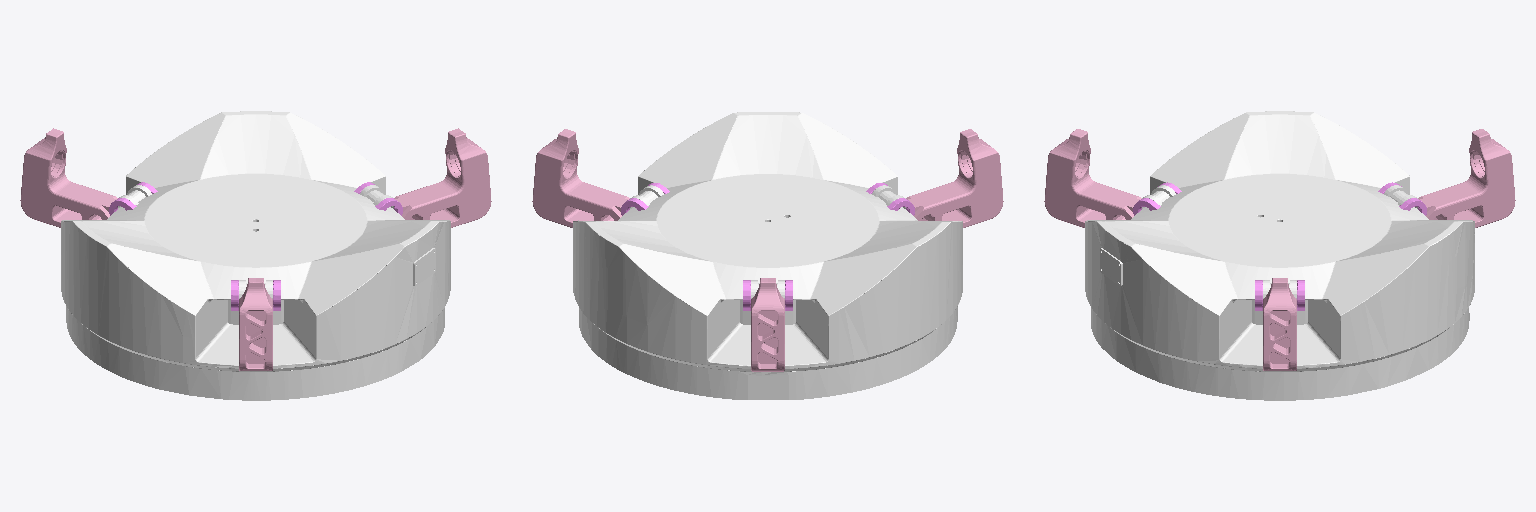
robot.urdf — interface:
<?xml version="1.0" encoding="utf-8"?>
<!-- This URDF was automatically created by SolidWorks to URDF Exporter! Originally created by Stephen Brawner (brawner@gmail.com) 
     Commit Version: 1.6.0-4-g7f85cfe  Build Version: 1.6.7995.38578
     For more information, please see http://wiki.ros.org/sw_urdf_exporter -->
<robot
  name="interface">
  <link
    name="base_link">
    <inertial>
      <origin
        xyz="0.00012080771538443 7.17794481618687E-05 -0.0367152848370495"
        rpy="0 0 0" />
      <mass
        value="1.6884153203787" />
      <inertia
        ixx="0.0219877639959177"
        ixy="2.27866641632109E-05"
        ixz="2.29639071508771E-06"
        iyy="0.0219170142646625"
        iyz="3.61364051362422E-06"
        izz="0.0384925499694706" />
    </inertial>
    <visual>
      <origin
        xyz="0 0 0"
        rpy="0 0 0" />
      <geometry>
        <mesh
          filename="package://interface/meshes/base_link.STL" />
      </geometry>
      <material
        name="">
        <color
          rgba="1 1 1 1" />
      </material>
    </visual>
    <collision>
      <origin
        xyz="0 0 0"
        rpy="0 0 0" />
      <geometry>
        <mesh
          filename="package://interface/meshes/base_link.STL" />
      </geometry>
    </collision>
  </link>
  <link
    name="link_sigangluomu">
    <inertial>
      <origin
        xyz="0.000254121728951753 -0.0001512185784841 -0.0155487512925986"
        rpy="0 0 0" />
      <mass
        value="0.235427923429964" />
      <inertia
        ixx="0.000770126515181142"
        ixy="1.77593943212782E-06"
        ixz="-2.87946623721882E-07"
        iyy="0.000772050847604667"
        iyz="1.81644941971848E-07"
        izz="0.00149909975897245" />
    </inertial>
    <visual>
      <origin
        xyz="0 0 0"
        rpy="0 0 0" />
      <geometry>
        <mesh
          filename="package://interface/meshes/link_sigangluomu.STL" />
      </geometry>
      <material
        name="">
        <color
          rgba="1 0.662745098039216 1 1" />
      </material>
    </visual>
    <collision>
      <origin
        xyz="0 0 0"
        rpy="0 0 0" />
      <geometry>
        <mesh
          filename="package://interface/meshes/link_sigangluomu.STL" />
      </geometry>
    </collision>
  </link>
  <joint
    name="joint_sigangluomu"
    type="prismatic">
    <origin
      xyz="6.0324E-05 -3.4828E-05 -0.013"
      rpy="0 0 0" />
    <parent
      link="base_link" />
    <child
      link="link_sigangluomu" />
    <axis
      xyz="0 0 1" />
    <limit
      lower="-10"
      upper="10"
      effort="0"
      velocity="0" />
  </joint>
  <link
    name="link_gan1">
    <inertial>
      <origin
        xyz="0.0101045395839432 -1.38777878078145E-17 -3.23869234047422E-18"
        rpy="0 0 0" />
      <mass
        value="0.0132810984591575" />
      <inertia
        ixx="2.32613897338988E-06"
        ixy="6.35274710440725E-22"
        ixz="2.73609417366445E-21"
        iyy="4.11628491602783E-06"
        iyz="-9.46702639517894E-22"
        izz="3.25737577734755E-06" />
    </inertial>
    <visual>
      <origin
        xyz="0 0 0"
        rpy="0 0 0" />
      <geometry>
        <mesh
          filename="package://interface/meshes/link_gan1.STL" />
      </geometry>
      <material
        name="">
        <color
          rgba="1 1 1 1" />
      </material>
    </visual>
    <collision>
      <origin
        xyz="0 0 0"
        rpy="0 0 0" />
      <geometry>
        <mesh
          filename="package://interface/meshes/link_gan1.STL" />
      </geometry>
    </collision>
  </link>
  <joint
    name="joint_gan1"
    type="continuous">
    <origin
      xyz="-0.0635 0.10999 -0.0005"
      rpy="1.5708 0.85167 -1.0472" />
    <parent
      link="link_sigangluomu" />
    <child
      link="link_gan1" />
    <axis
      xyz="0 0 -1" />
  </joint>
  <link
    name="link_paw1">
    <inertial>
      <origin
        xyz="-0.0548348758661997 -0.0457079555343899 -1.16566684936312E-05"
        rpy="0 0 0" />
      <mass
        value="0.11476078857248" />
      <inertia
        ixx="8.21616539977427E-05"
        ixy="-7.61179026069127E-05"
        ixz="-6.0480473633756E-08"
        iyy="0.000168258959409913"
        iyz="-2.19281055075103E-08"
        izz="0.000233536551667223" />
    </inertial>
    <visual>
      <origin
        xyz="0 0 0"
        rpy="0 0 0" />
      <geometry>
        <mesh
          filename="package://interface/meshes/link_paw1.STL" />
      </geometry>
      <material
        name="">
        <color
          rgba="0.956862745098039 0.745098039215686 0.847058823529412 1" />
      </material>
    </visual>
    <collision>
      <origin
        xyz="0 0 0"
        rpy="0 0 0" />
      <geometry>
        <mesh
          filename="package://interface/meshes/link_paw1.STL" />
      </geometry>
    </collision>
  </link>
  <joint
    name="joint_paw1"
    type="continuous">
    <origin
      xyz="0.0301 0 0"
      rpy="0 0 0" />
    <parent
      link="link_gan1" />
    <child
      link="link_paw1" />
    <axis
      xyz="0 0 -1" />
  </joint>
  <link
    name="link_gan2">
    <inertial>
      <origin
        xyz="0.0101045395839442 1.30451205393456E-15 1.99146255042137E-15"
        rpy="0 0 0" />
      <mass
        value="0.0132810984591574" />
      <inertia
        ixx="2.32613897338984E-06"
        ixy="6.02981579326655E-20"
        ixz="2.23299060719915E-19"
        iyy="4.11628491602766E-06"
        iyz="-6.56450534122083E-21"
        izz="3.25737577734737E-06" />
    </inertial>
    <visual>
      <origin
        xyz="0 0 0"
        rpy="0 0 0" />
      <geometry>
        <mesh
          filename="package://interface/meshes/link_gan2.STL" />
      </geometry>
      <material
        name="">
        <color
          rgba="1 1 1 1" />
      </material>
    </visual>
    <collision>
      <origin
        xyz="0 0 0"
        rpy="0 0 0" />
      <geometry>
        <mesh
          filename="package://interface/meshes/link_gan2.STL" />
      </geometry>
    </collision>
  </link>
  <joint
    name="joint_gan2"
    type="continuous">
    <origin
      xyz="-0.0635 -0.10999 -0.0005"
      rpy="1.5708 0.85167 1.0472" />
    <parent
      link="link_sigangluomu" />
    <child
      link="link_gan2" />
    <axis
      xyz="0 0 1" />
  </joint>
  <link
    name="link_paw2">
    <inertial>
      <origin
        xyz="-0.054864772750387 -0.0457543434807413 -1.16312847808983E-05"
        rpy="0 0 0" />
      <mass
        value="0.114925706317884" />
      <inertia
        ixx="8.2367170279816E-05"
        ixy="-7.62388478705649E-05"
        ixz="-6.0417246407715E-08"
        iyy="0.000168334707812615"
        iyz="-2.18298335663902E-08"
        izz="0.000233815446772037" />
    </inertial>
    <visual>
      <origin
        xyz="0 0 0"
        rpy="0 0 0" />
      <geometry>
        <mesh
          filename="package://interface/meshes/link_paw2.STL" />
      </geometry>
      <material
        name="">
        <color
          rgba="0.956862745098039 0.745098039215686 0.847058823529412 1" />
      </material>
    </visual>
    <collision>
      <origin
        xyz="0 0 0"
        rpy="0 0 0" />
      <geometry>
        <mesh
          filename="package://interface/meshes/link_paw2.STL" />
      </geometry>
    </collision>
  </link>
  <joint
    name="joint_paw2"
    type="continuous">
    <origin
      xyz="0.0301 0 0"
      rpy="0 0 0" />
    <parent
      link="link_gan2" />
    <child
      link="link_paw2" />
    <axis
      xyz="0 0 1" />
  </joint>
  <link
    name="link_gan3">
    <inertial>
      <origin
        xyz="0.0101045395839445 1.38777878078145E-15 -1.76941794549634E-15"
        rpy="0 0 0" />
      <mass
        value="0.0132810984591575" />
      <inertia
        ixx="2.32613897338986E-06"
        ixy="6.70744215106999E-20"
        ixz="-2.33781093442187E-19"
        iyy="4.11628491602773E-06"
        iyz="-2.43521972335611E-21"
        izz="3.25737577734743E-06" />
    </inertial>
    <visual>
      <origin
        xyz="0 0 0"
        rpy="0 0 0" />
      <geometry>
        <mesh
          filename="package://interface/meshes/link_gan3.STL" />
      </geometry>
      <material
        name="">
        <color
          rgba="1 1 1 1" />
      </material>
    </visual>
    <collision>
      <origin
        xyz="0 0 0"
        rpy="0 0 0" />
      <geometry>
        <mesh
          filename="package://interface/meshes/link_gan3.STL" />
      </geometry>
    </collision>
  </link>
  <joint
    name="joint_gan3"
    type="continuous">
    <origin
      xyz="0.127 0 -0.0005"
      rpy="1.5708 0.85167 -3.1416" />
    <parent
      link="link_sigangluomu" />
    <child
      link="link_gan3" />
    <axis
      xyz="0 0 1" />
  </joint>
  <link
    name="link_paw3">
    <inertial>
      <origin
        xyz="-0.0548647632948589 -0.045754345859375 -1.16367580229176E-05"
        rpy="0 0 0" />
      <mass
        value="0.114925663188327" />
      <inertia
        ixx="8.23671610873377E-05"
        ixy="-7.62388510035468E-05"
        ixz="-6.04230952940608E-08"
        iyy="0.000168334667559384"
        iyz="-2.18668749211793E-08"
        izz="0.000233815403787295" />
    </inertial>
    <visual>
      <origin
        xyz="0 0 0"
        rpy="0 0 0" />
      <geometry>
        <mesh
          filename="package://interface/meshes/link_paw3.STL" />
      </geometry>
      <material
        name="">
        <color
          rgba="0.956862745098039 0.745098039215686 0.847058823529412 1" />
      </material>
    </visual>
    <collision>
      <origin
        xyz="0 0 0"
        rpy="0 0 0" />
      <geometry>
        <mesh
          filename="package://interface/meshes/link_paw3.STL" />
      </geometry>
    </collision>
  </link>
  <joint
    name="joint_paw3"
    type="continuous">
    <origin
      xyz="0.0301 0 0"
      rpy="0 0 0" />
    <parent
      link="link_gan3" />
    <child
      link="link_paw3" />
    <axis
      xyz="0 0 1" />
  </joint>
</robot>

--- Render facts (derived) ---
Views: 3 orthographic renders of the robot side by side, from view 1: azimuth 30°, elevation 25°; view 2: azimuth 150°, elevation 25°; view 3: azimuth 270°, elevation 25°.
Model interface with 8 links and 7 joints (6 continuous, 1 prismatic), rooted at base_link, posed every joint at zero.
Visible links, largest first — view 1: base_link, link_paw1, link_paw3, link_paw2, link_sigangluomu; view 2: base_link, link_paw2, link_paw3, link_paw1, link_sigangluomu; view 3: base_link, link_paw2, link_paw1, link_paw3, link_sigangluomu.
Link boxes in pixels (bbox=[...]): base_link: bbox=[61, 111, 450, 400]; link_paw1: bbox=[20, 128, 117, 227]; link_paw3: bbox=[394, 128, 491, 227]; link_paw2: bbox=[239, 278, 272, 370]; link_sigangluomu: bbox=[109, 182, 402, 310]; base_link: bbox=[573, 112, 962, 399]; link_paw2: bbox=[906, 129, 1003, 227]; link_paw3: bbox=[532, 129, 629, 227]; link_paw1: bbox=[751, 278, 784, 371]; link_sigangluomu: bbox=[621, 183, 914, 310]; base_link: bbox=[1085, 111, 1474, 400]; link_paw2: bbox=[1044, 129, 1141, 227]; link_paw1: bbox=[1418, 129, 1515, 227]; link_paw3: bbox=[1263, 278, 1296, 370]; link_sigangluomu: bbox=[1133, 182, 1426, 310].
Size in the robot's own frame: 0.4108 by 0.4226 by 0.1381 metres.
8 mesh visuals loaded from 8 distinct referenced files (8 binary STL).
